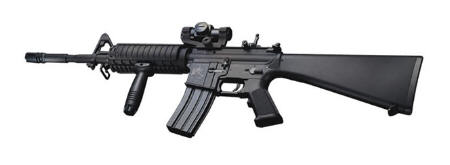rifle: (8, 23, 434, 145)
